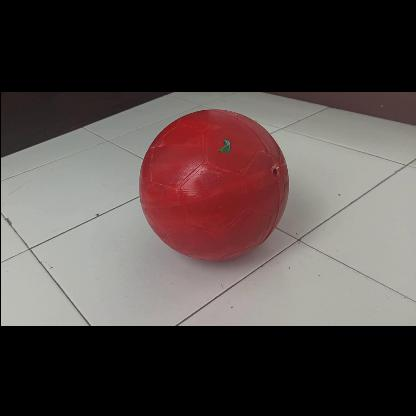red_ball: (137, 109, 289, 261)
